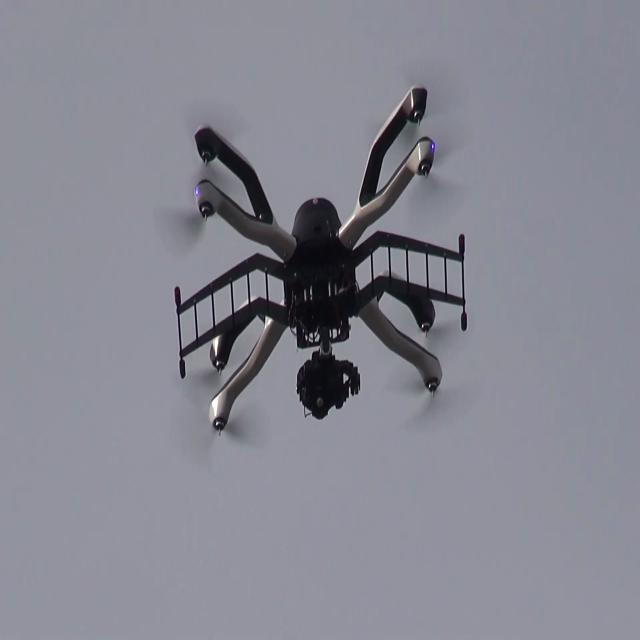drone: (164, 83, 476, 465)
